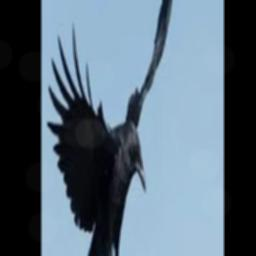Crow: (47, 0, 175, 256)
